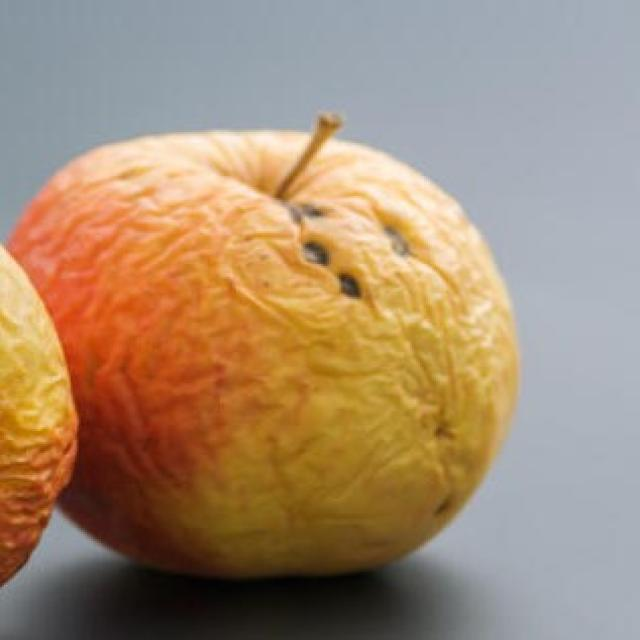overripe: (14, 124, 525, 588)
